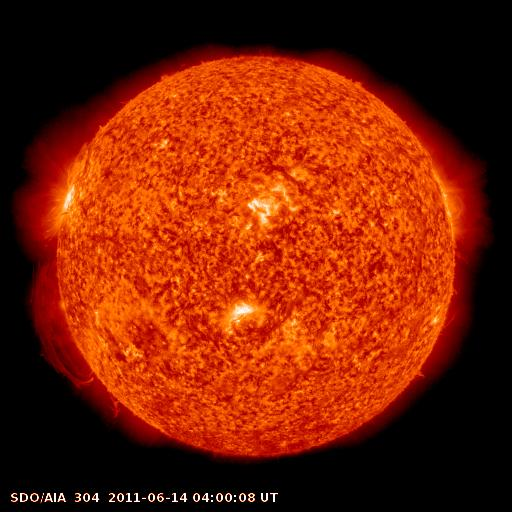prominence: (26, 263, 103, 387), (64, 138, 95, 182), (103, 390, 128, 424)
